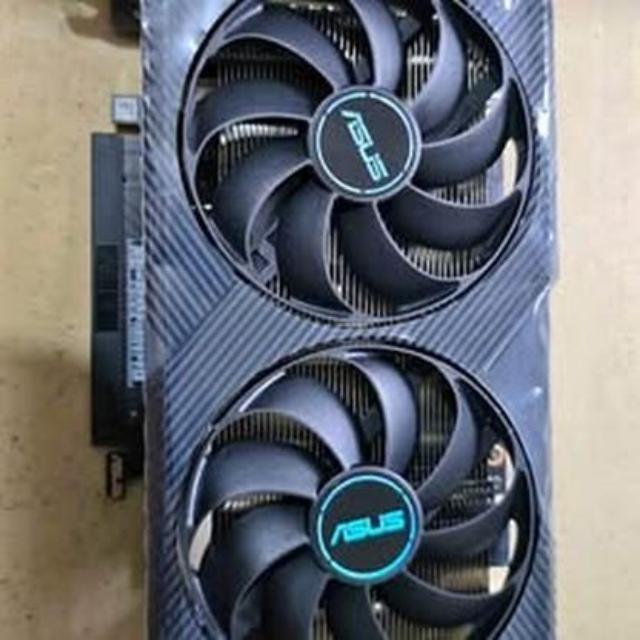GPU: (92, 0, 563, 640)
